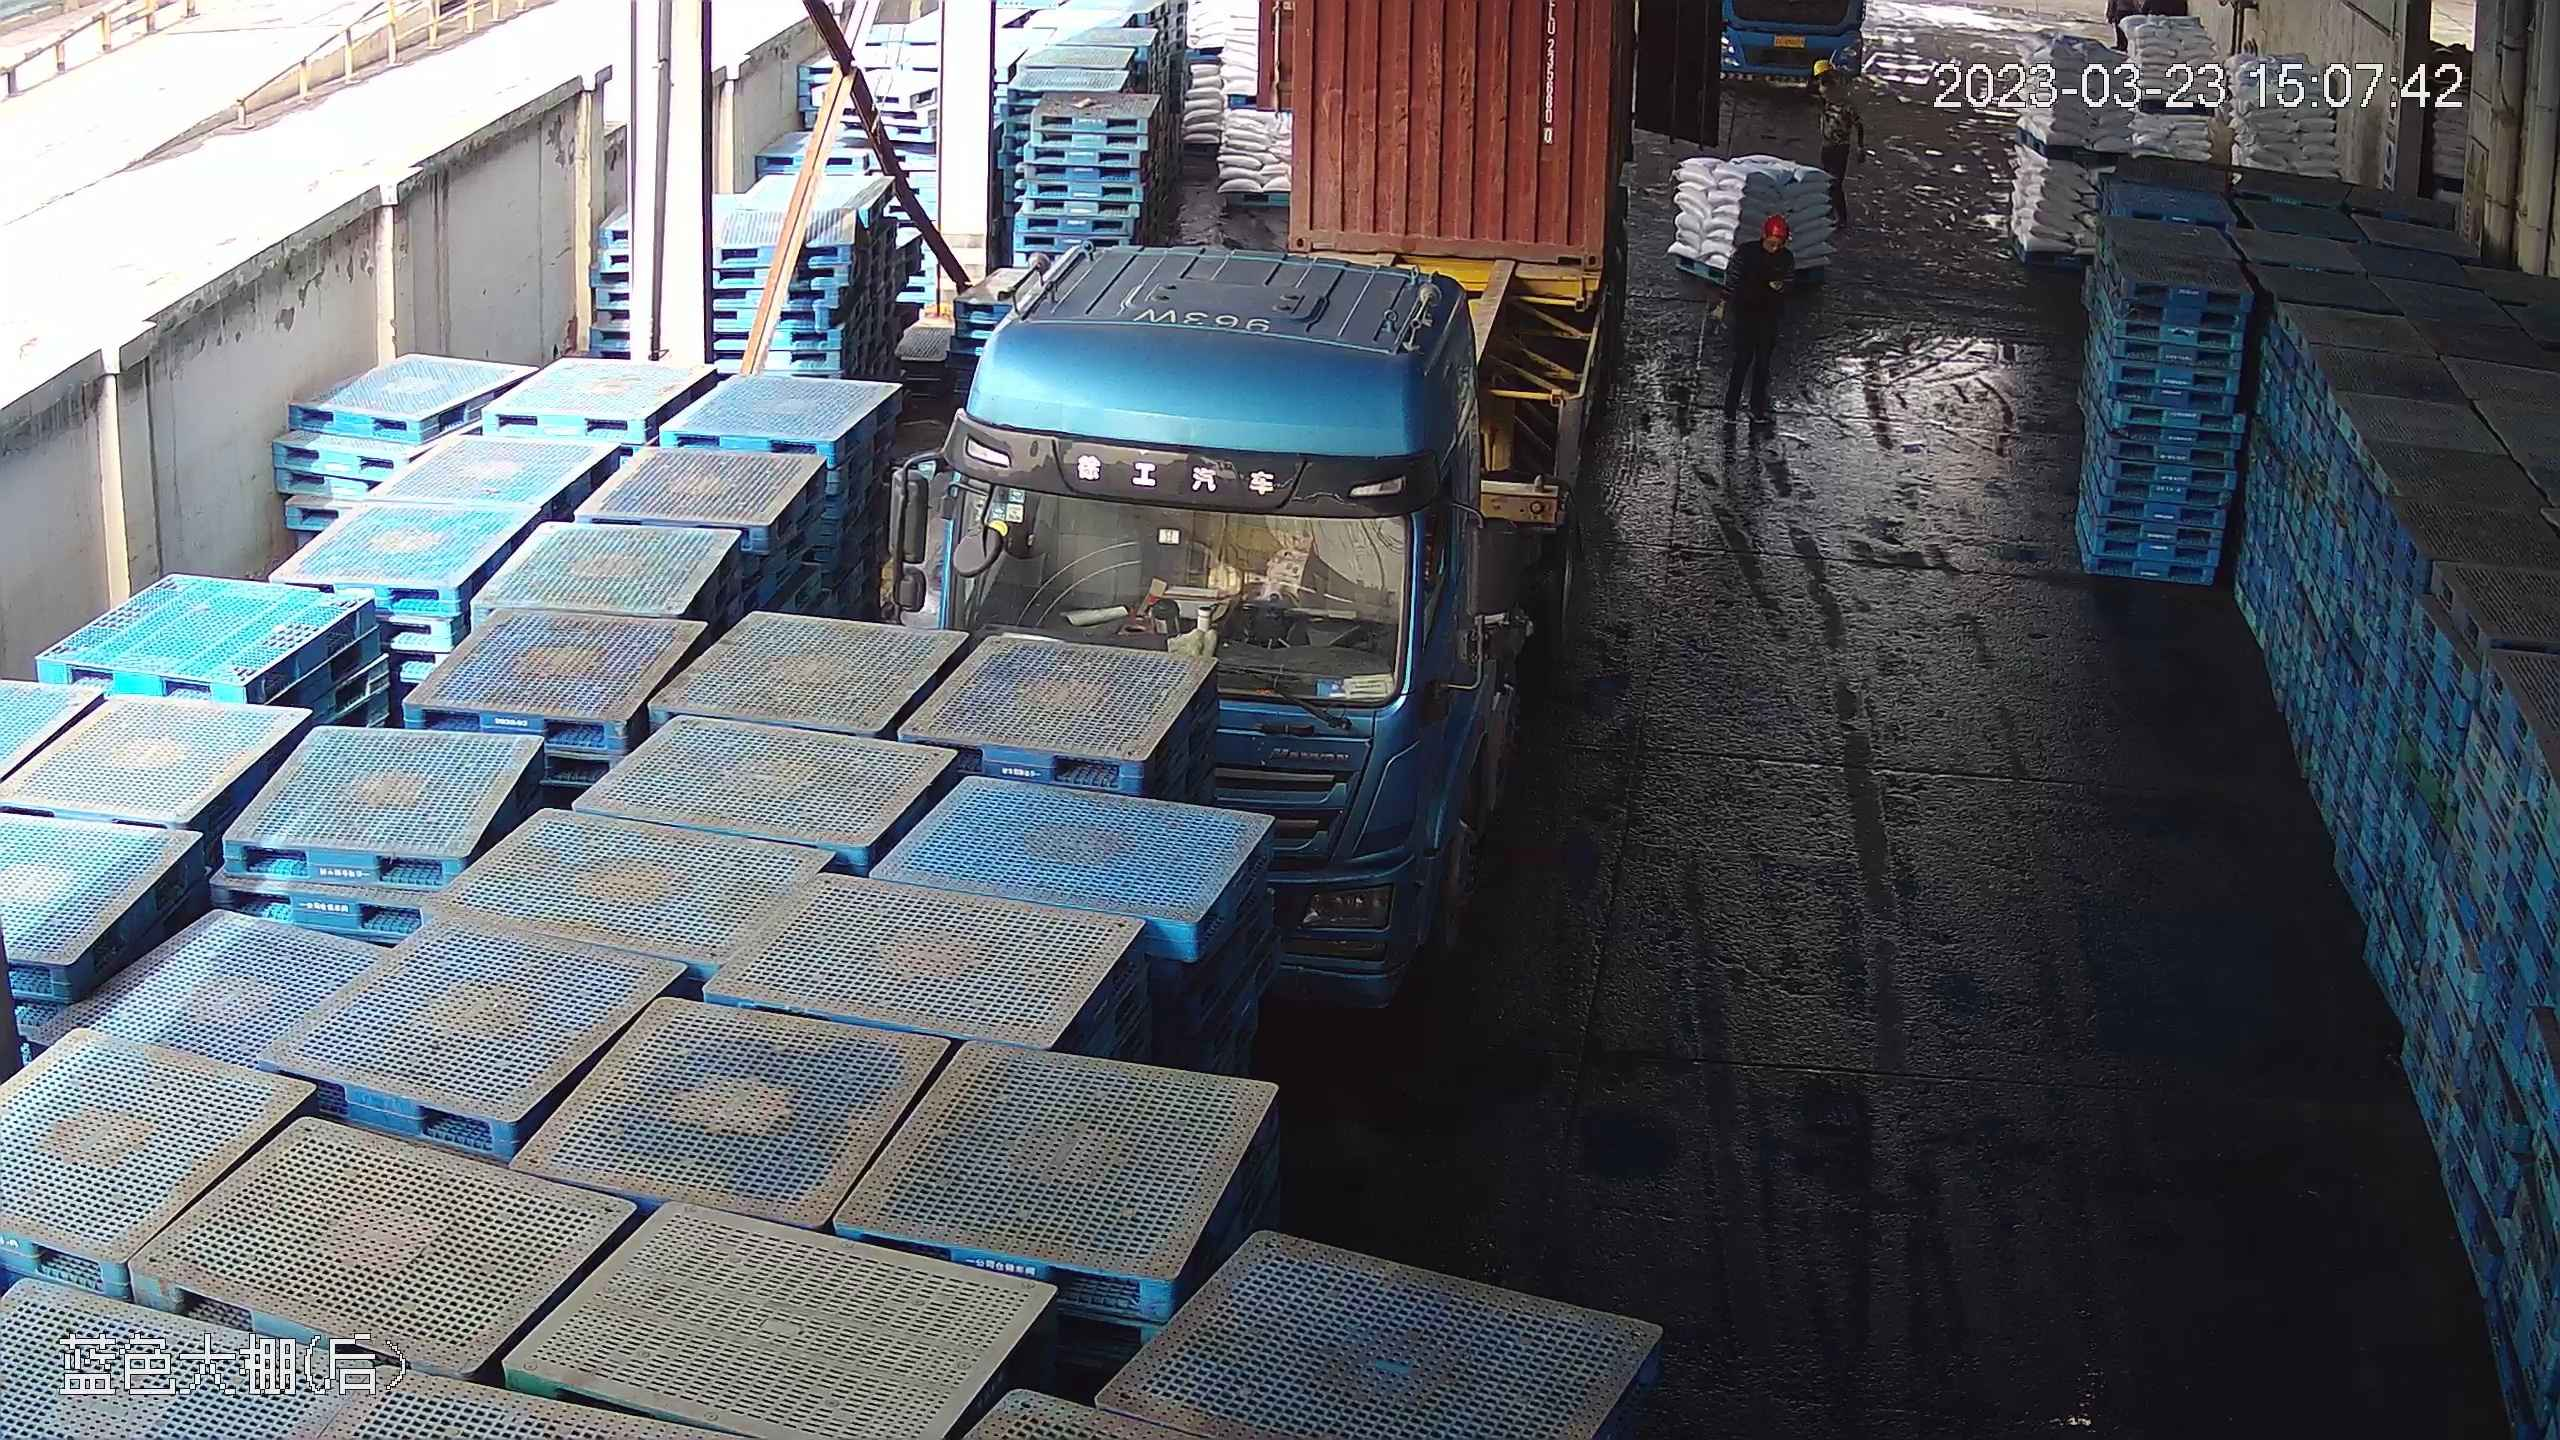head: (1733, 212, 1804, 278), (1811, 55, 1855, 105)
helmet: (1764, 213, 1795, 240), (1813, 58, 1833, 77)
people: (1717, 209, 1810, 450), (1808, 53, 1863, 229)
truck: (903, 1, 1596, 924)
